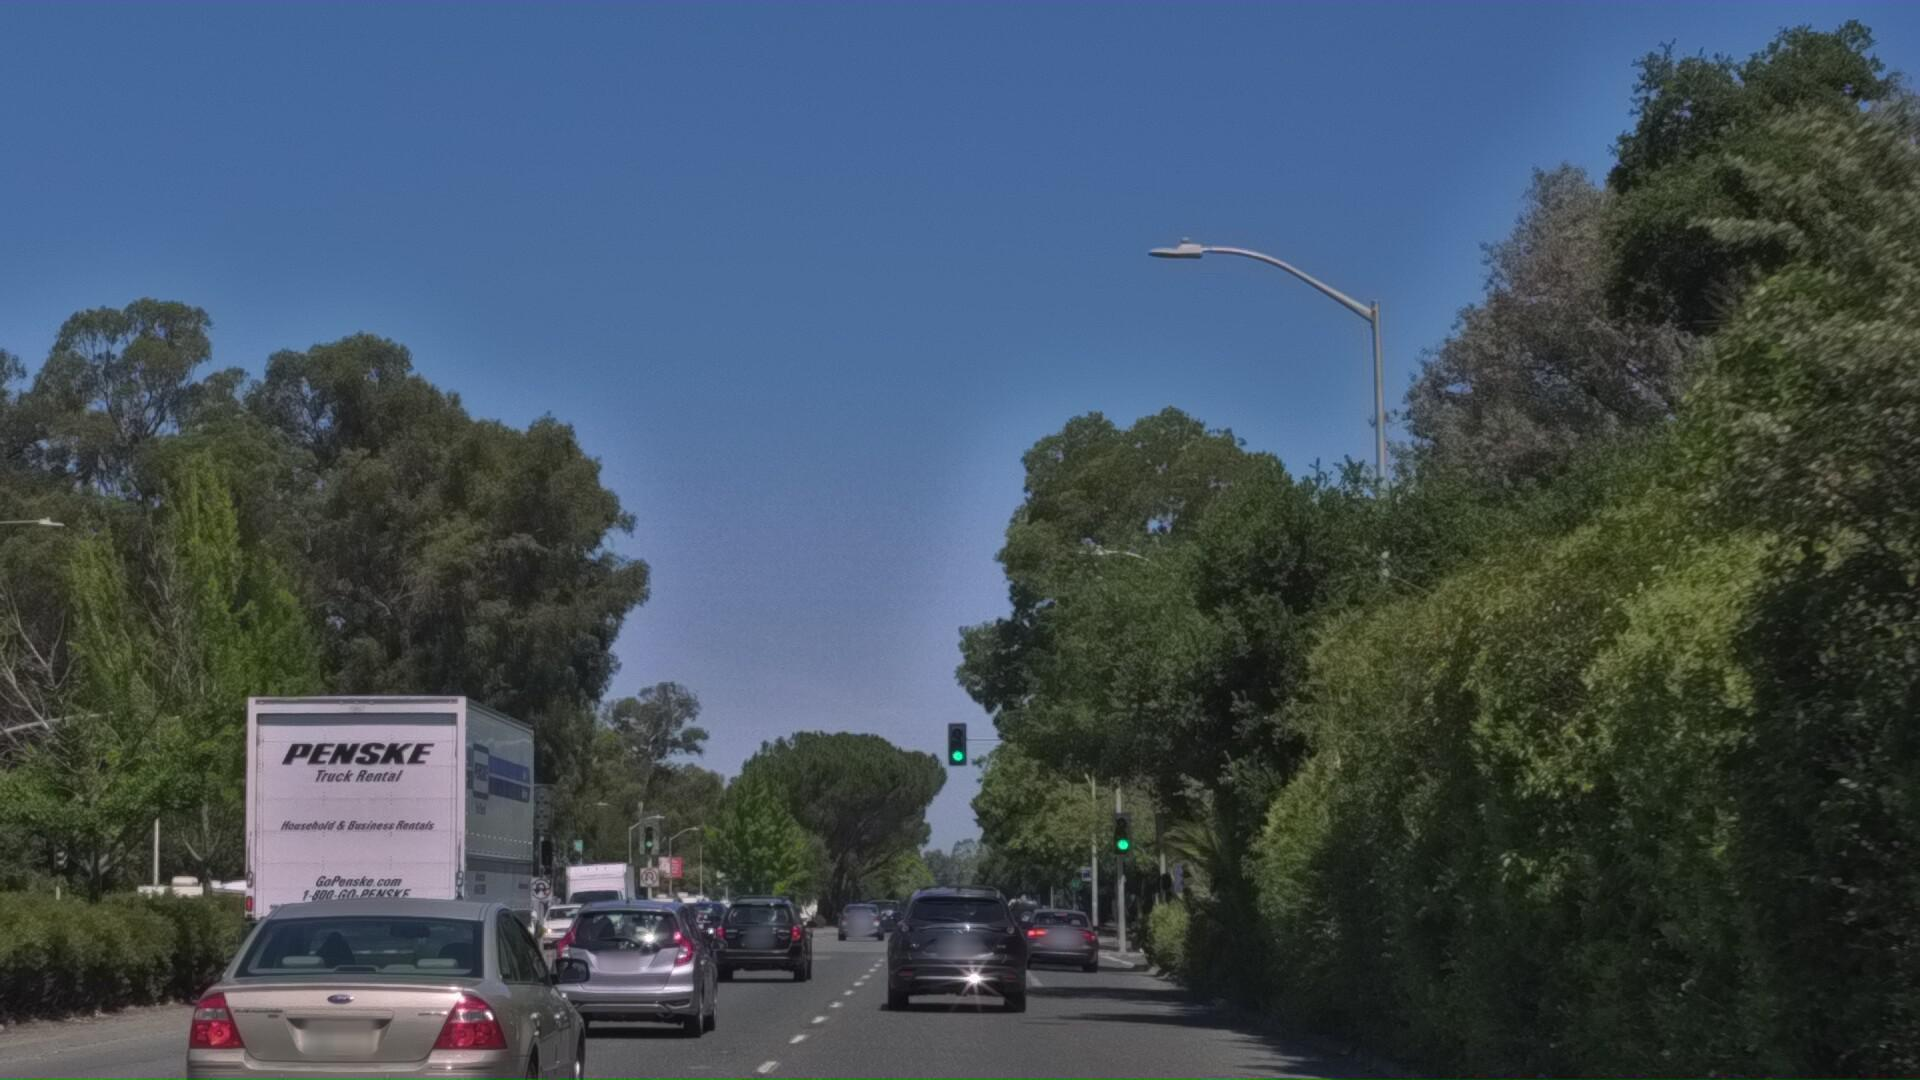car: (160, 975, 612, 1080), (864, 972, 1031, 1080), (545, 994, 736, 1080), (698, 981, 824, 1080), (1013, 978, 1114, 1064)
truck: (243, 767, 584, 1080)
